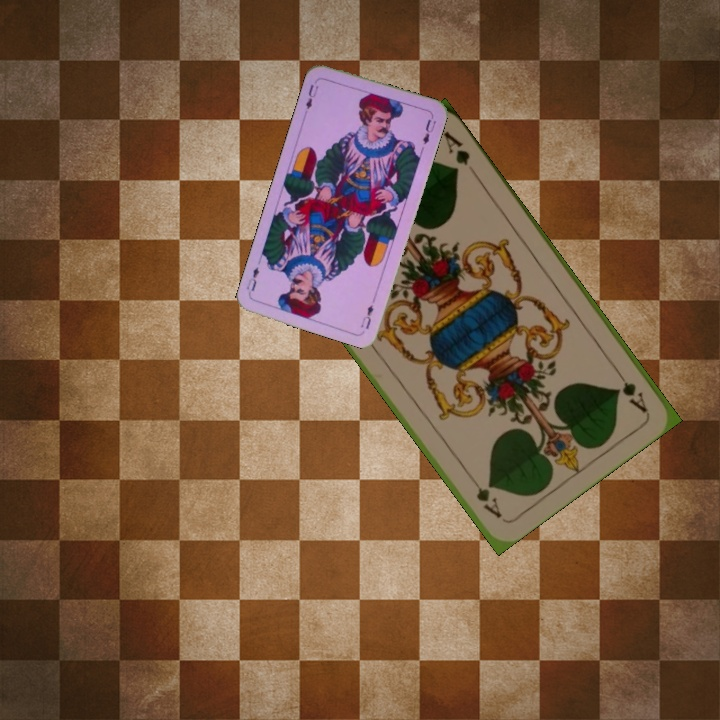EU: (301, 80, 321, 116), (357, 301, 376, 332)
GA: (610, 363, 651, 415)
